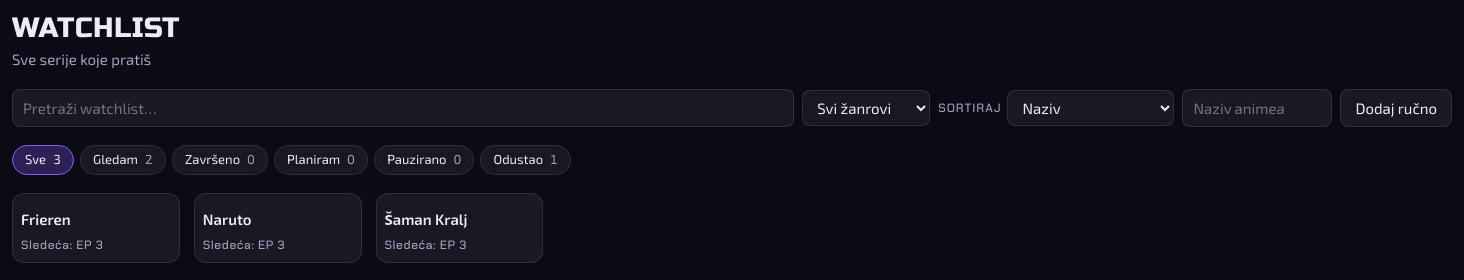
Scenario: WatchlistPage toolbar › search filters by aniCliTitle and romaji without diacritics
expect the text "Naruto" is shown: met, box [203,208,252,230]
In the search field labelled "Pretraži watchlist…": (403, 108) [12,89,794,127], type "saman"
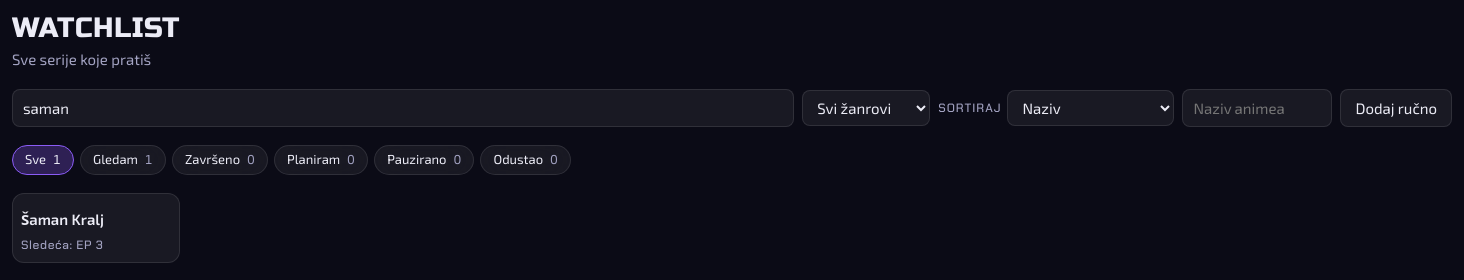
expect the text "Šaman Kralj" is shown: met, box [21,208,104,230]
expect the button "Naruto" is gone: met
Replace the text in the search field named "Pretraži watchlist…" with "sousou": (403, 108) [12,89,794,127]
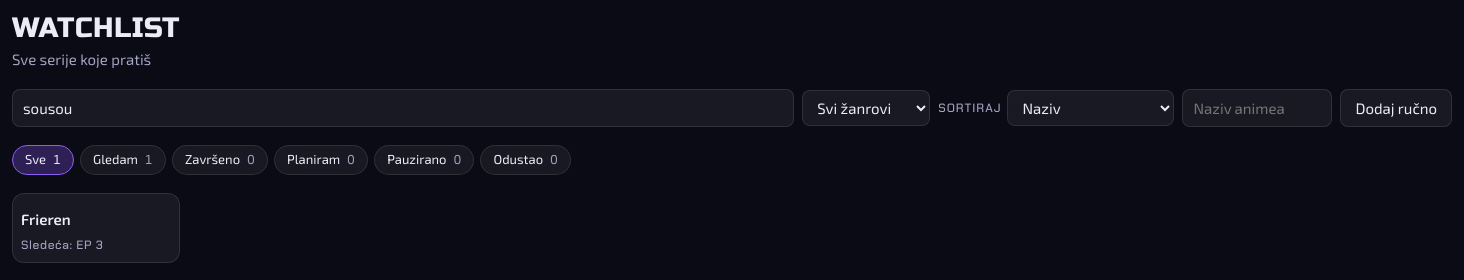
expect the text "Frieren" is shown: met, box [21,208,71,230]
expect the button "Šaman Kralj" is gone: met
Replace the text in the search field named "Pretraži watchlist…" with "shaman king": (403, 108) [12,89,794,127]
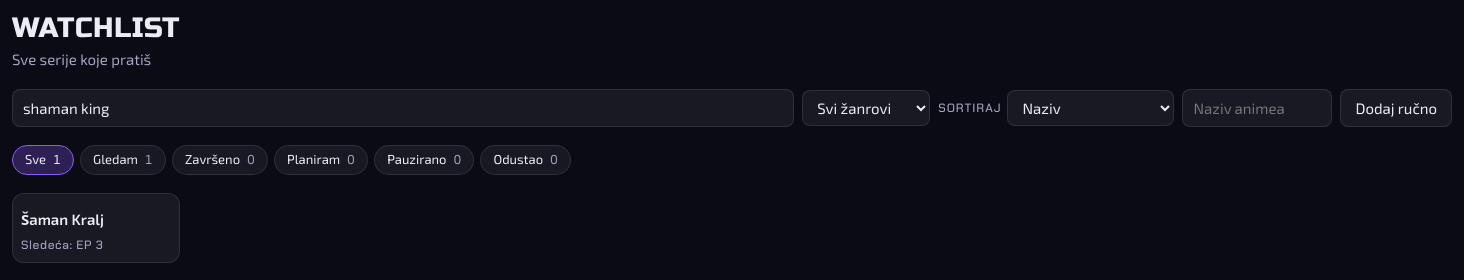
expect the text "Šaman Kralj" is shown: met, box [21,208,104,230]
